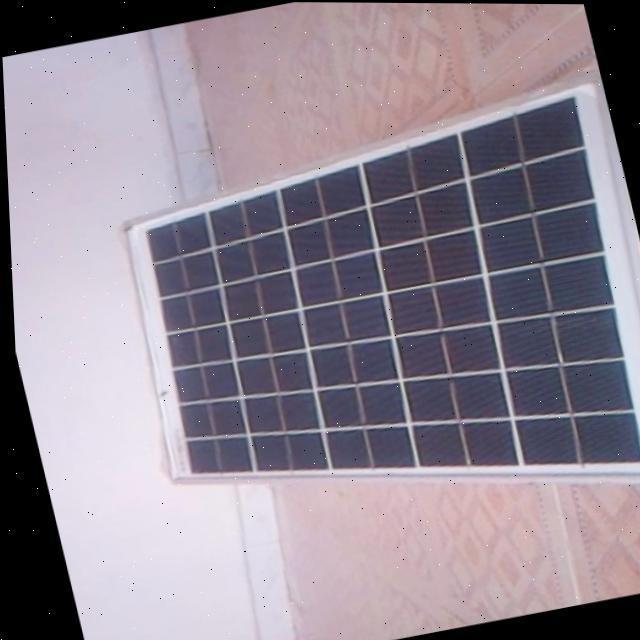Normal Solar Panel: (88, 64, 640, 576)
